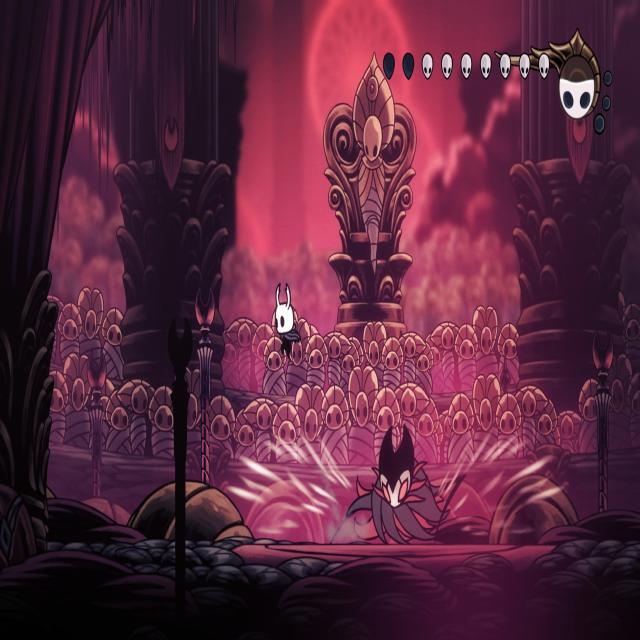Dive Dash: (323, 406, 465, 540)
Player: (270, 278, 301, 364)
